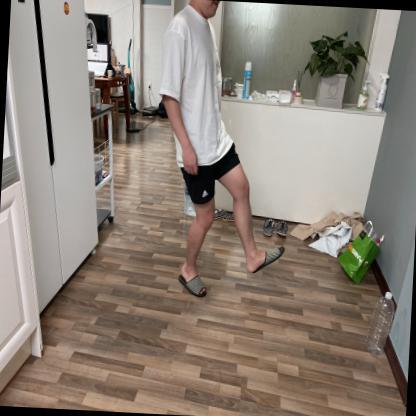no_safety-shoe: (175, 264, 219, 315), (241, 237, 288, 275)
